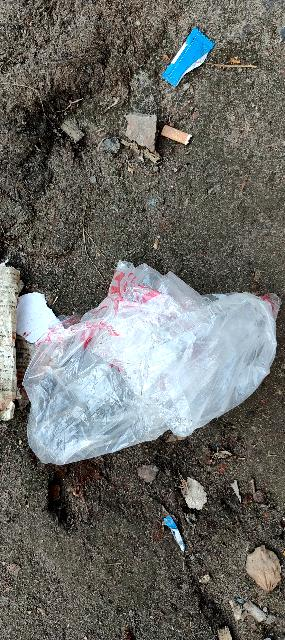polythene: (0, 263, 284, 477)
